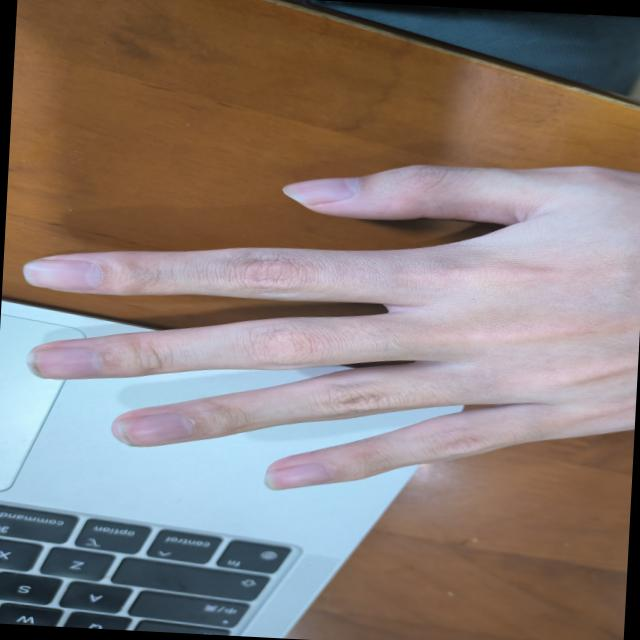Nail: (116, 412, 193, 446), (25, 346, 101, 378), (21, 258, 100, 288), (280, 177, 358, 204), (262, 462, 332, 490)
